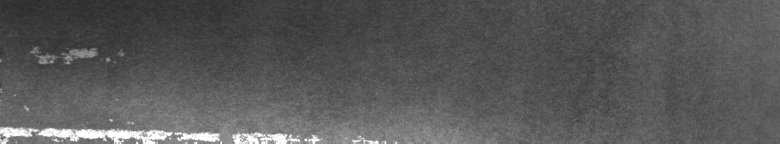kb: (4, 44, 299, 136)
